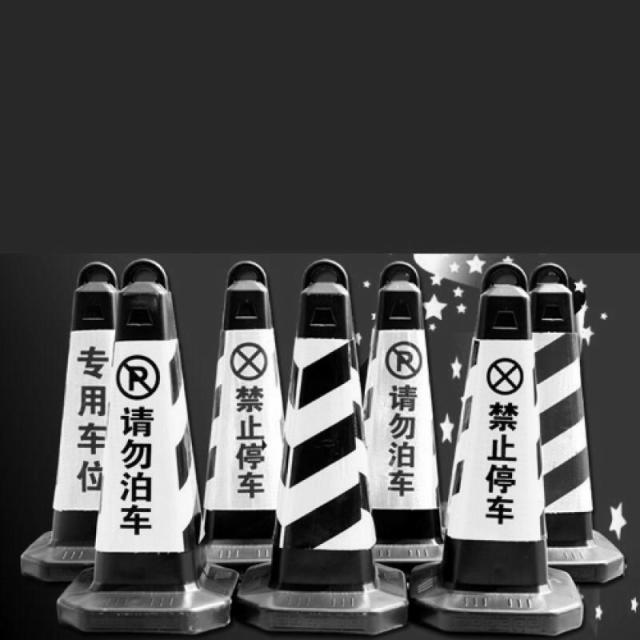reflective_cone: (54, 261, 233, 635), (409, 261, 585, 636), (238, 261, 409, 634), (528, 264, 626, 586), (21, 258, 117, 578), (200, 258, 282, 566), (362, 262, 443, 570)
